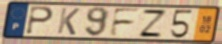5: (169, 9, 195, 40)
9: (84, 6, 111, 39)
F: (108, 7, 143, 38)
K: (55, 6, 82, 36)
P: (24, 5, 55, 36)
Z: (137, 8, 169, 38)
